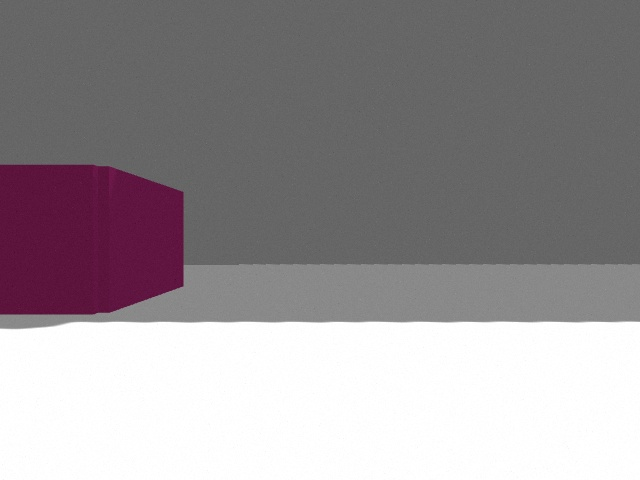red_drop_zone: (0, 165, 184, 315)
